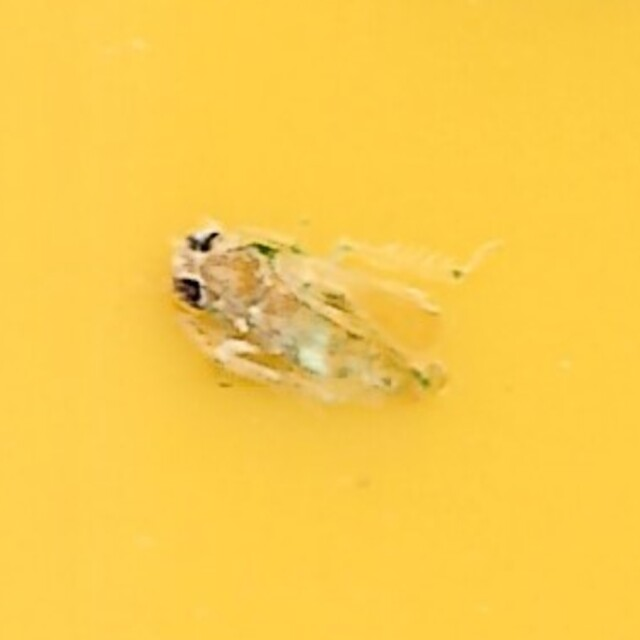Hemiptera: (171, 220, 469, 420)
